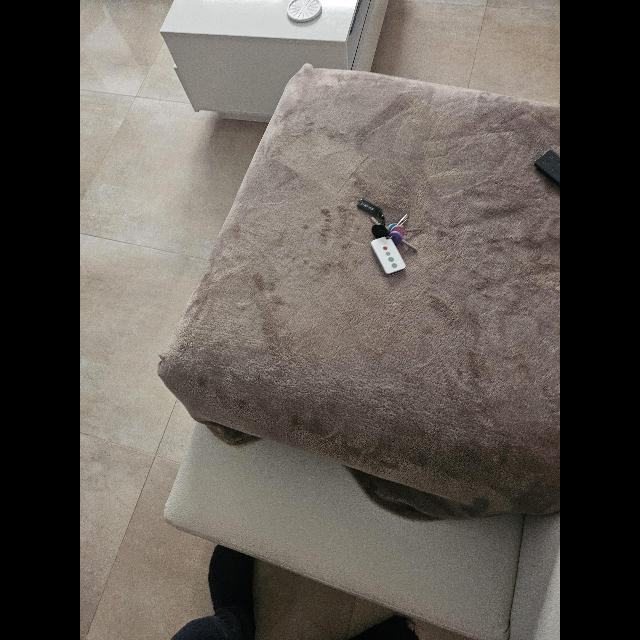Keys: (360, 198, 420, 274)
